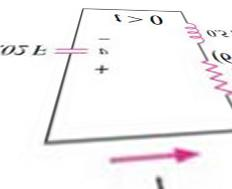resistor: (197, 55, 231, 94)
